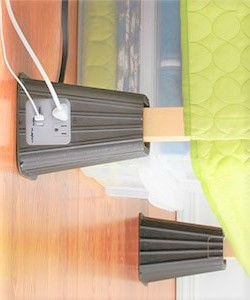outlet: (53, 122, 68, 138)
